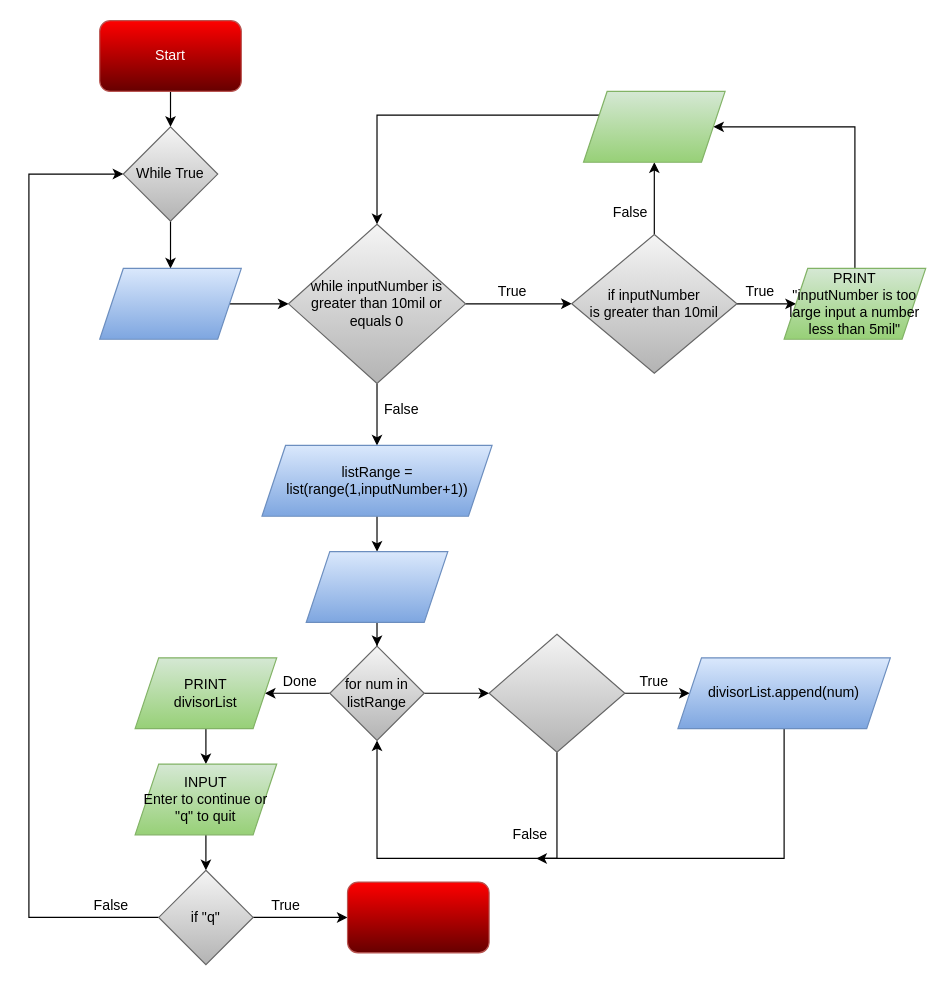
The diagram is 946 pixels wide and 985 high, and some of its shapes have lost their labels. Here are the shapes that lost their labels. From the top down, the box of each, then its label:
(582, 90, 725, 162): INPUT "Input number to divide"
(99, 267, 241, 339): inputNumber = 0
(305, 550, 448, 622): divisorList = []
(488, 633, 625, 752): if inputNumber % num == 0
(346, 881, 489, 953): End
